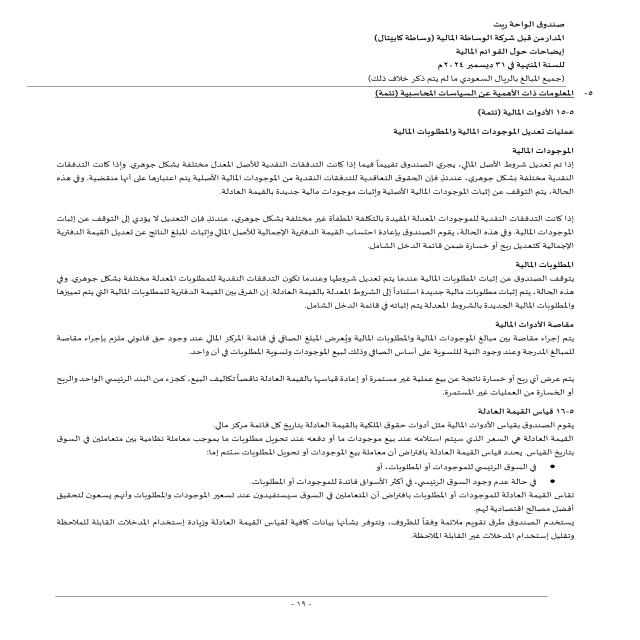notes: (433, 46, 571, 59)
text: (16, 101, 590, 564)
